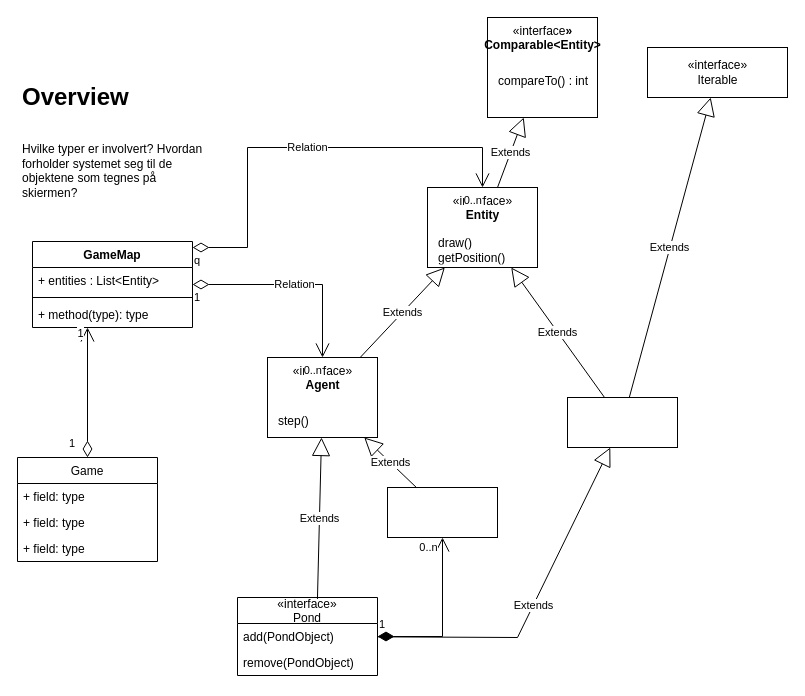
This 805x696 diagram has some shape labels left out. The shapes that lost their labels are listed below. From the top down, each one's centre as x and y in pixels, then its label:
At point (622, 422): "«interface» Container".
At point (442, 512): "«interface » PondObject".
